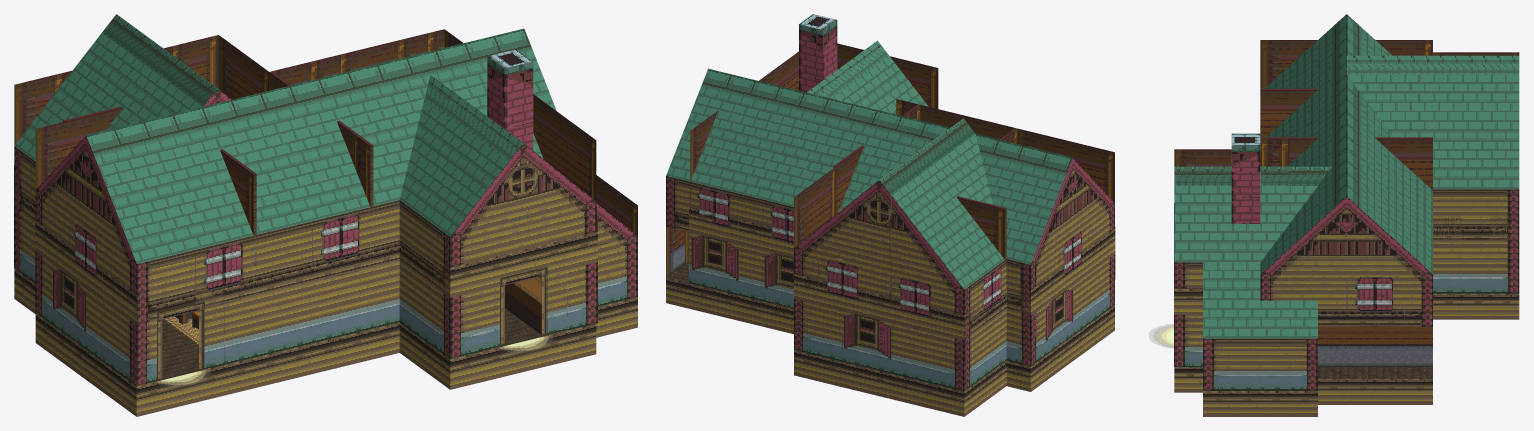
The model's file is house3_in.glb.
3 views of the same model, side by side, from view 1: azimuth 30°, elevation 25°; view 2: azimuth 150°, elevation 25°; view 3: azimuth 270°, elevation 25° (orthographic). The views are drawn at different scales.
Parts seen in each view (by area): view 1: Scenario.003, Scenario.004, Scenario.002, Scenario.001, Scenario.008, Scenario.005; view 2: Scenario.003, Scenario.004, Scenario.002, Scenario.008; view 3: Scenario.003, Scenario.004, Scenario.001, Scenario.008, Scenario.002.
Boxes of the visible parts, bbox=[...] form: Scenario.003: bbox=[14, 14, 596, 324]; Scenario.004: bbox=[14, 29, 597, 386]; Scenario.002: bbox=[14, 268, 596, 416]; Scenario.001: bbox=[596, 203, 637, 306]; Scenario.008: bbox=[596, 175, 637, 337]; Scenario.005: bbox=[505, 276, 541, 334]; Scenario.003: bbox=[666, 14, 1114, 340]; Scenario.004: bbox=[689, 43, 1115, 391]; Scenario.002: bbox=[690, 254, 1114, 416]; Scenario.008: bbox=[666, 227, 690, 308]; Scenario.003: bbox=[1174, 14, 1519, 326]; Scenario.004: bbox=[1174, 40, 1519, 367]; Scenario.001: bbox=[1203, 262, 1317, 390]; Scenario.008: bbox=[1203, 367, 1432, 416]; Scenario.002: bbox=[1149, 293, 1519, 392].
Bounding box in the file's own units: 16.01 × 9 × 13.01.
Materials: 8 (8 with a texture image).
